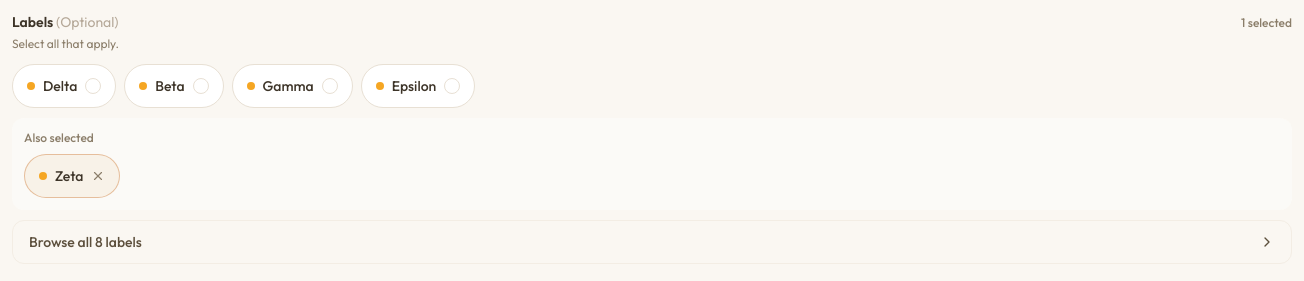
Scenario: LabelPicker › keeps a selected non-quick label visible and removable
Expected: the text "Also selected" is shown, [24,130,94,145]
Click the button with aria-label "Remove Zeta label" at (72, 176), box [24,154,120,198]
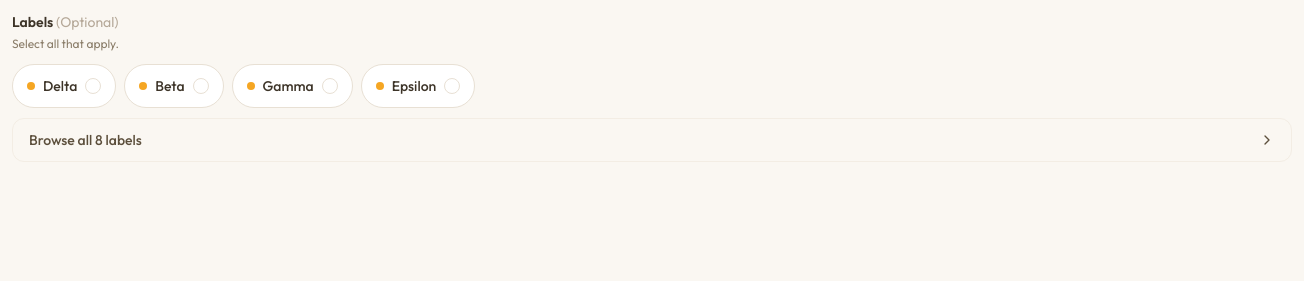
Expected: the text "Also selected" is gone
